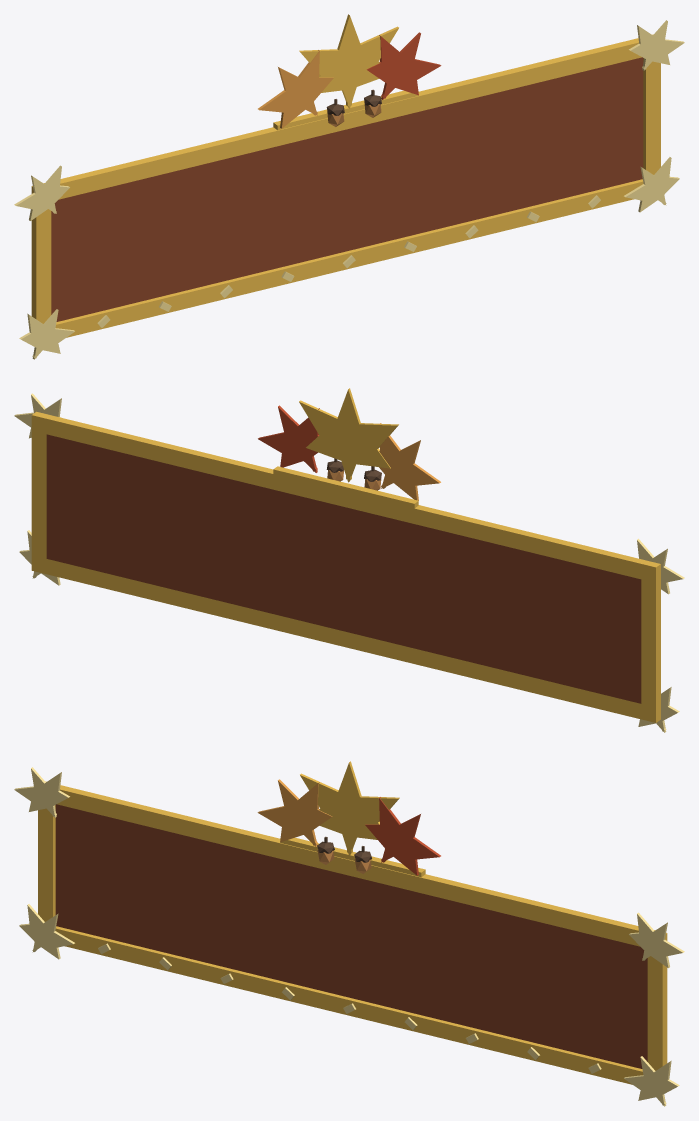
Rendered from CatCafe_Plot_SignGoldenLeaf.glb.
3 views of the same model, one above another, from view 1: azimuth 30°, elevation 25°; view 2: azimuth 150°, elevation 25°; view 3: azimuth 330°, elevation 25° (orthographic).
Visible parts, largest first — view 1: CatCafe_Plot_SignGoldenLeaf_SignBoard, CatCafe_Plot_SignGoldenLeaf_Frame, CatCafe_Plot_SignGoldenLeaf; view 2: CatCafe_Plot_SignGoldenLeaf_SignBoard, CatCafe_Plot_SignGoldenLeaf_Frame, CatCafe_Plot_SignGoldenLeaf; view 3: CatCafe_Plot_SignGoldenLeaf_SignBoard, CatCafe_Plot_SignGoldenLeaf_Frame, CatCafe_Plot_SignGoldenLeaf.
Part boxes in pixels (x1,y1,x2,y2): CatCafe_Plot_SignGoldenLeaf_SignBoard: [51, 57, 643, 321]; CatCafe_Plot_SignGoldenLeaf_Frame: [31, 34, 660, 337]; CatCafe_Plot_SignGoldenLeaf: [14, 14, 684, 359]; CatCafe_Plot_SignGoldenLeaf_SignBoard: [46, 434, 641, 703]; CatCafe_Plot_SignGoldenLeaf_Frame: [31, 411, 660, 722]; CatCafe_Plot_SignGoldenLeaf: [14, 388, 684, 732]; CatCafe_Plot_SignGoldenLeaf_SignBoard: [55, 804, 647, 1068]; CatCafe_Plot_SignGoldenLeaf_Frame: [38, 781, 667, 1084]; CatCafe_Plot_SignGoldenLeaf: [14, 761, 684, 1106].
Size of the model in its own units: 18.01 by 6.88 by 0.6905.
Materials: 1 (1 with a texture image).
